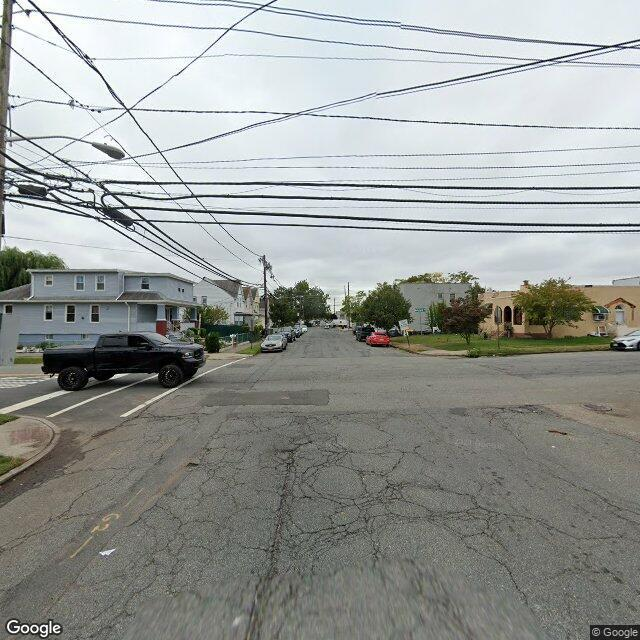pothole: (275, 443, 301, 474), (502, 402, 539, 418), (182, 459, 202, 472)
